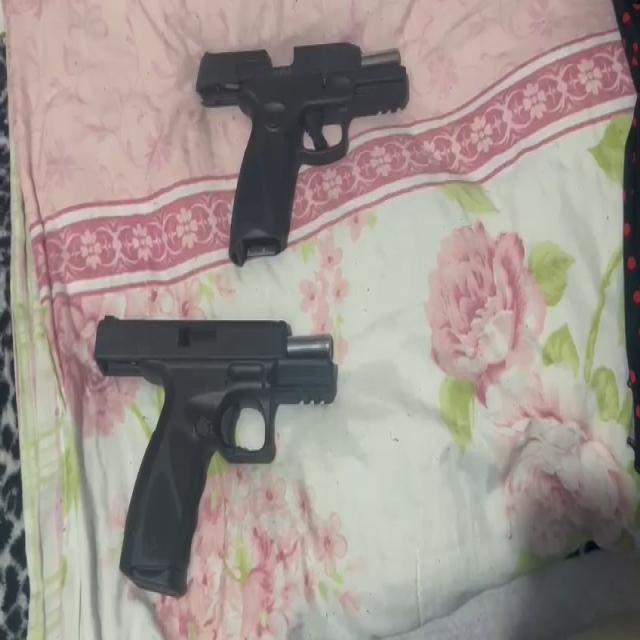gun: (93, 310, 339, 601), (194, 39, 409, 269)
